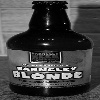beer: (9, 1, 98, 99)
